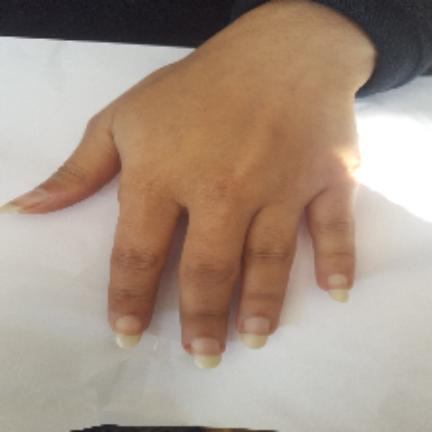Nail: (0, 189, 50, 214), (191, 338, 222, 369), (241, 316, 270, 349), (114, 316, 142, 349), (327, 273, 348, 302)
